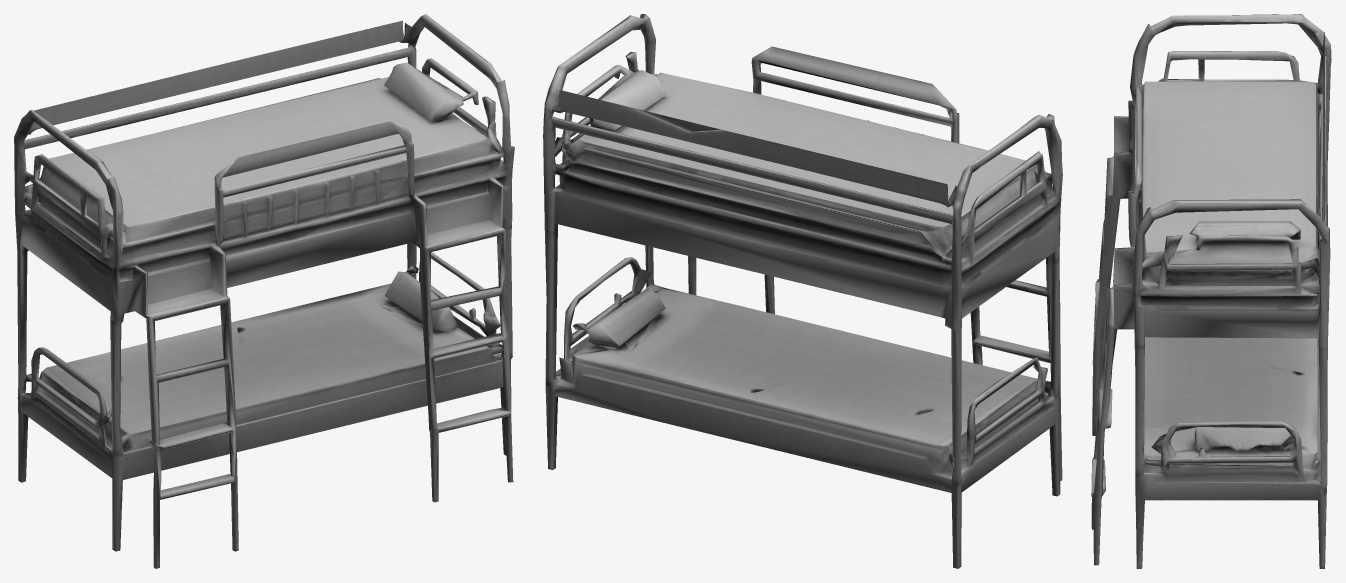
File: bunk_bed.glb
3 views of the same model, side by side, from view 1: azimuth 30°, elevation 25°; view 2: azimuth 150°, elevation 25°; view 3: azimuth 270°, elevation 25° (orthographic). The views are drawn at different scales.
Visible parts, largest first — view 1: bunk_bed; view 2: bunk_bed; view 3: bunk_bed.
Part boxes in pixels (x1,y1,x2,y2): bunk_bed: [14, 14, 514, 568]; bunk_bed: [543, 14, 1062, 568]; bunk_bed: [1091, 14, 1331, 568].
Bounding box in the file's own units: 1 × 0.9238 × 0.537.
Materials: 1 (1 with a texture image).
